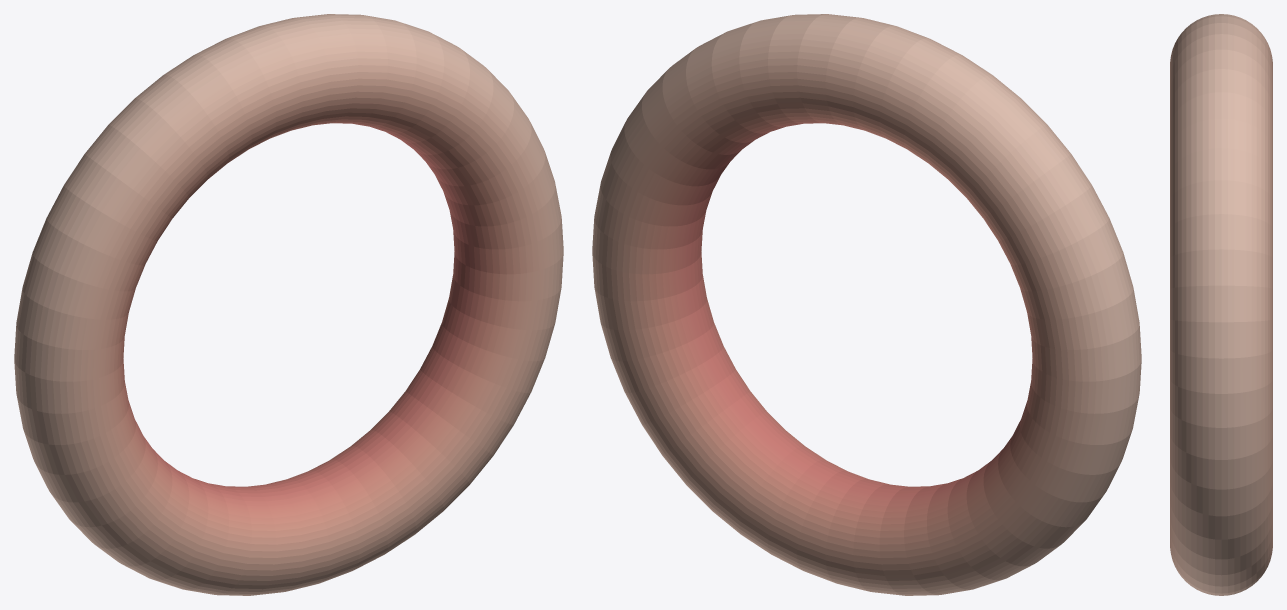
The picture shows the model from 3 angles, left to right: view 1: azimuth 30°, elevation 25°; view 2: azimuth 150°, elevation 25°; view 3: azimuth 270°, elevation 25°; orthographic projection. The views are drawn at different scales.
Parts seen in each view (by area): view 1: world; view 2: world; view 3: world.
Part boxes in pixels (<box>): world: <box>14,14,563,595</box>; world: <box>592,14,1141,595</box>; world: <box>1170,14,1272,595</box>.
Bounding box in the file's own units: 32.4 × 32.34 × 5.72.
